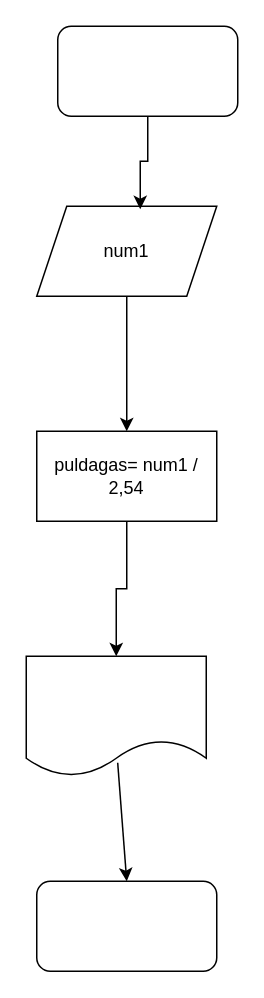
Image size: 264x998. Some labels were removed from this diagram. The shapes that lost their labels are listed below. From the top down, each one's box as (x1, y1, x2, y2) in pixels, then its label:
(56, 25, 238, 116): Inicio
(25, 655, 206, 776): Pulgadas
